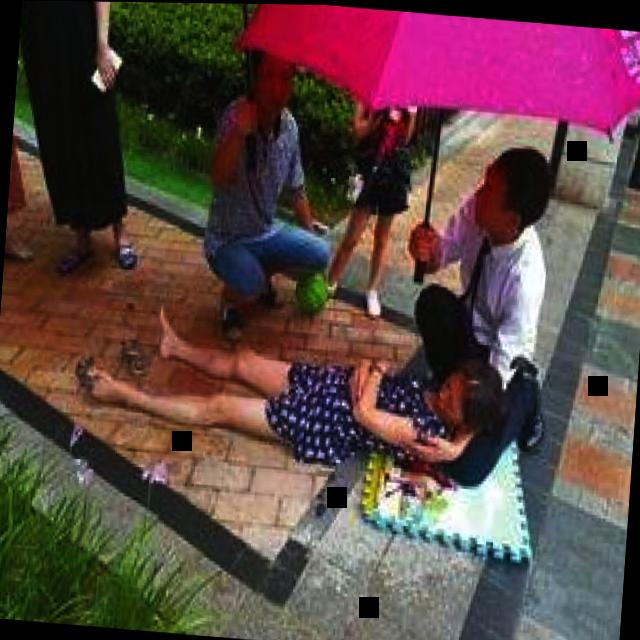Fall-Detected: (52, 288, 526, 479)
